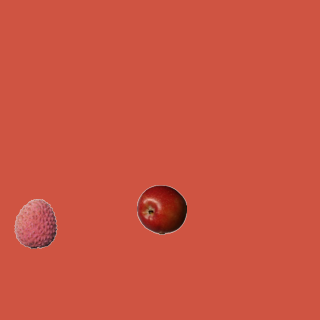Apple Braeburn: (136, 184, 186, 234)
Lychee: (10, 198, 60, 248)
